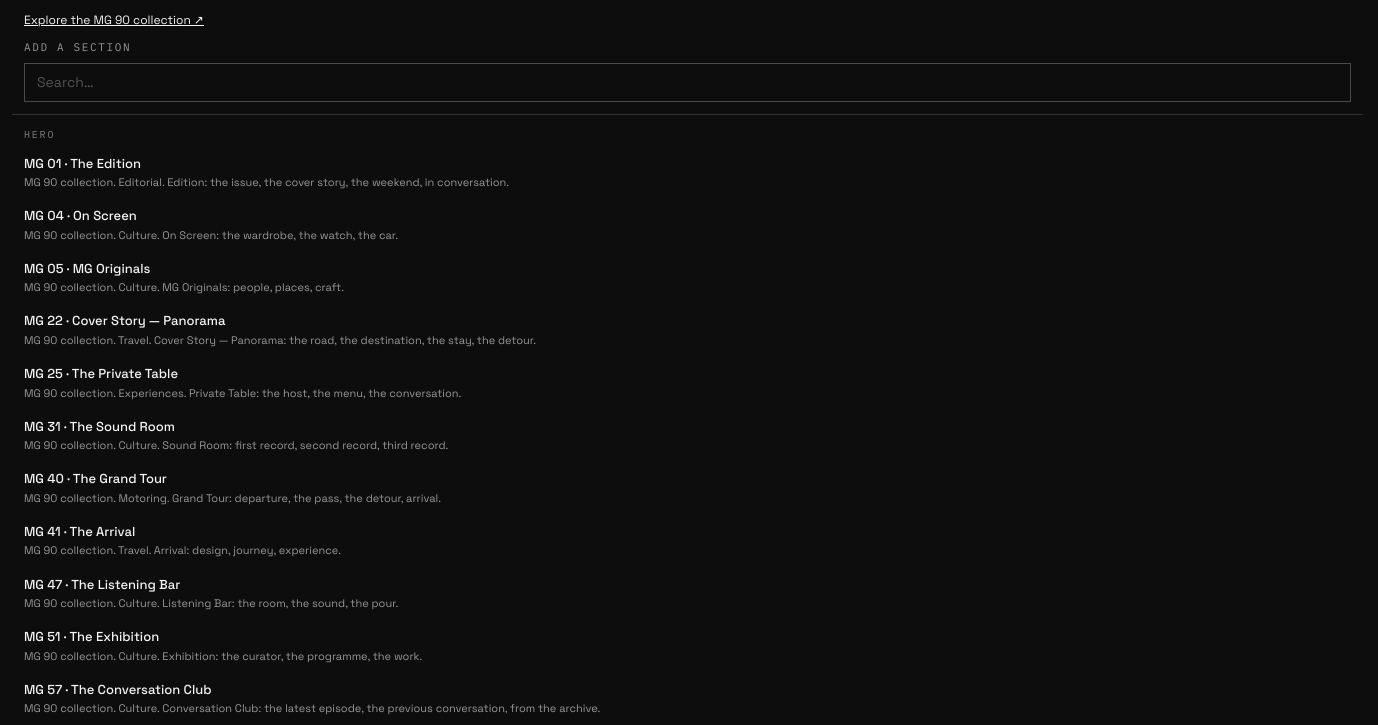
Test case: InsertMenu › filters the catalogue by the search box
Step 1. Type "no such section" into the field labelled "Add a section" → (688, 82), box [24,62,1351,102]
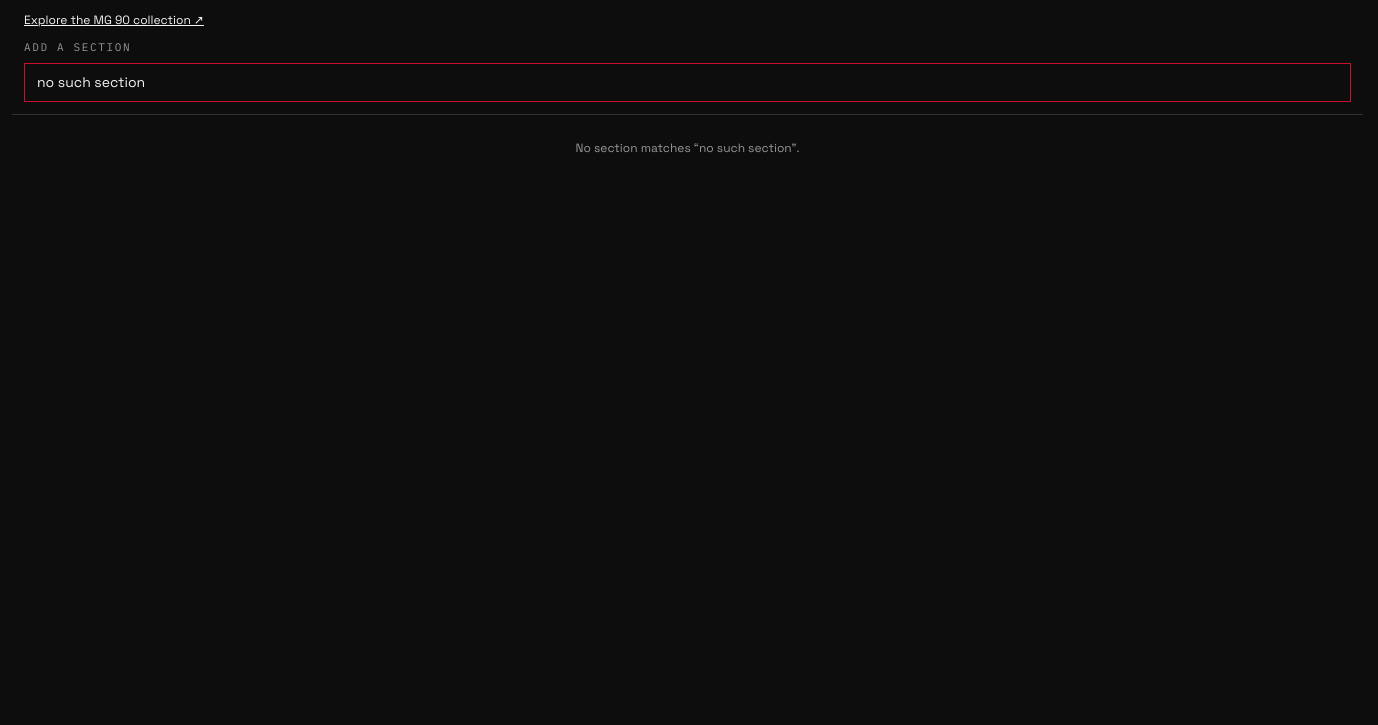
Expected: the text "No section matches “no such section”." is shown, [576,140,800,156]
